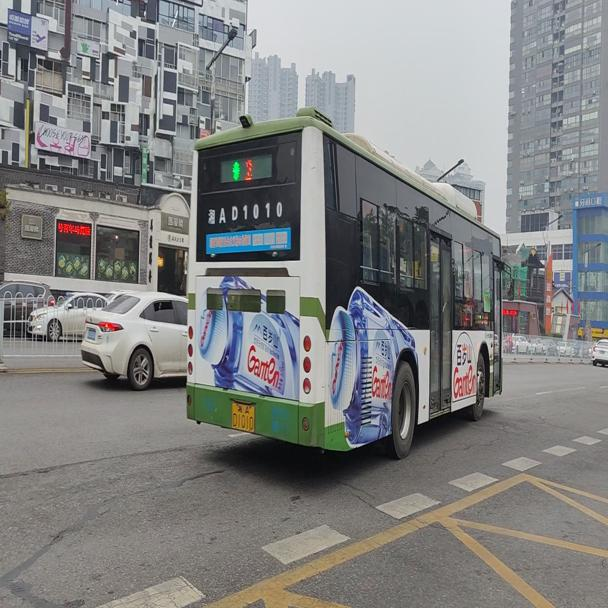bus: (186, 100, 515, 463)
screen: (242, 153, 259, 181)
